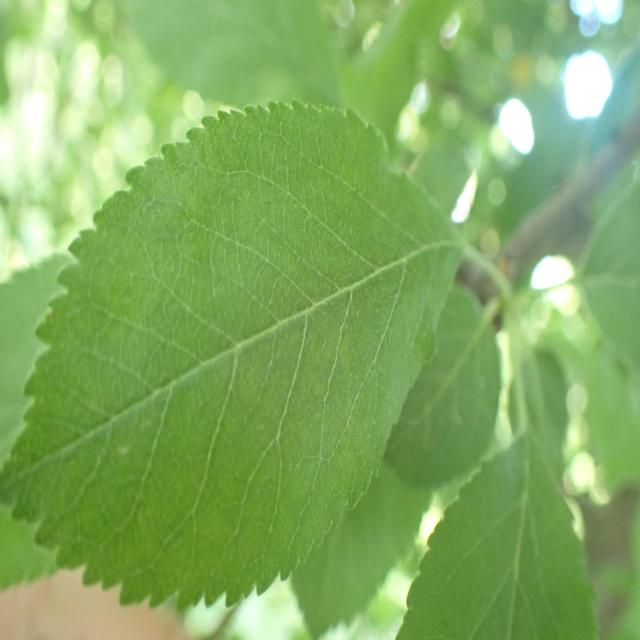healthy: (2, 97, 466, 612), (396, 429, 601, 640)
